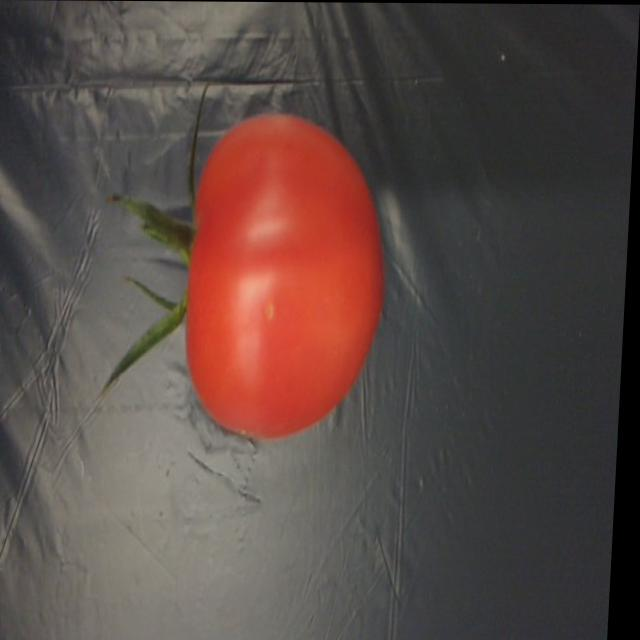kirmizi: (126, 109, 421, 446)
